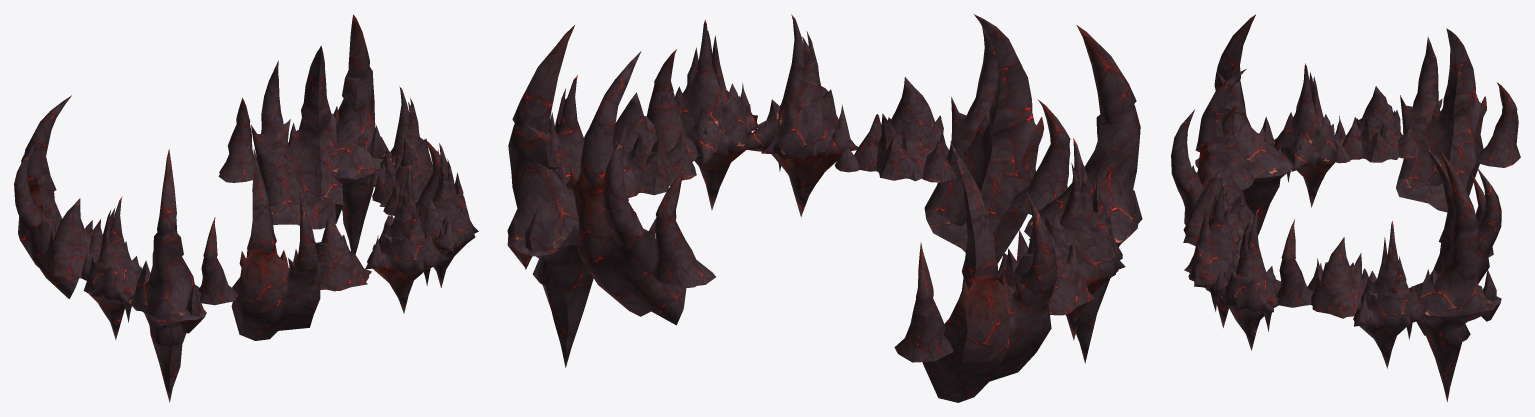
Rendered from Dungeons_03_02_07.FBX.
The picture shows the model from 3 angles, left to right: view 1: azimuth 30°, elevation 25°; view 2: azimuth 150°, elevation 25°; view 3: azimuth 270°, elevation 25°; orthographic projection. The views are drawn at different scales.
Visible parts, largest first — view 1: Object358; view 2: Object358; view 3: Object358.
Part boxes in pixels (x1=…): Object358: x1=14, y1=14, x2=478, y2=402; Object358: x1=507, y1=14, x2=1142, y2=402; Object358: x1=1171, y1=14, x2=1520, y2=401.
Size of the model in its own units: 273 by 163 by 205.
